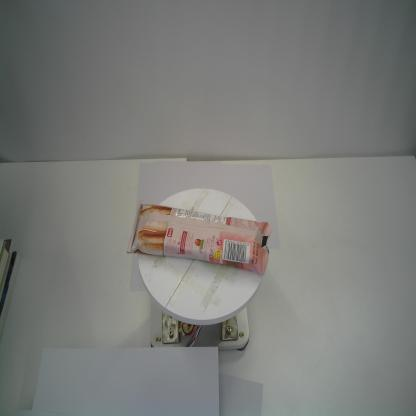Dessert: (126, 198, 276, 278)
